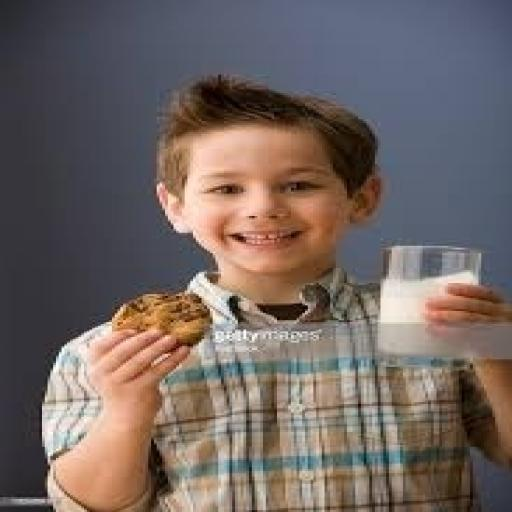drinking: (372, 242, 484, 359)
